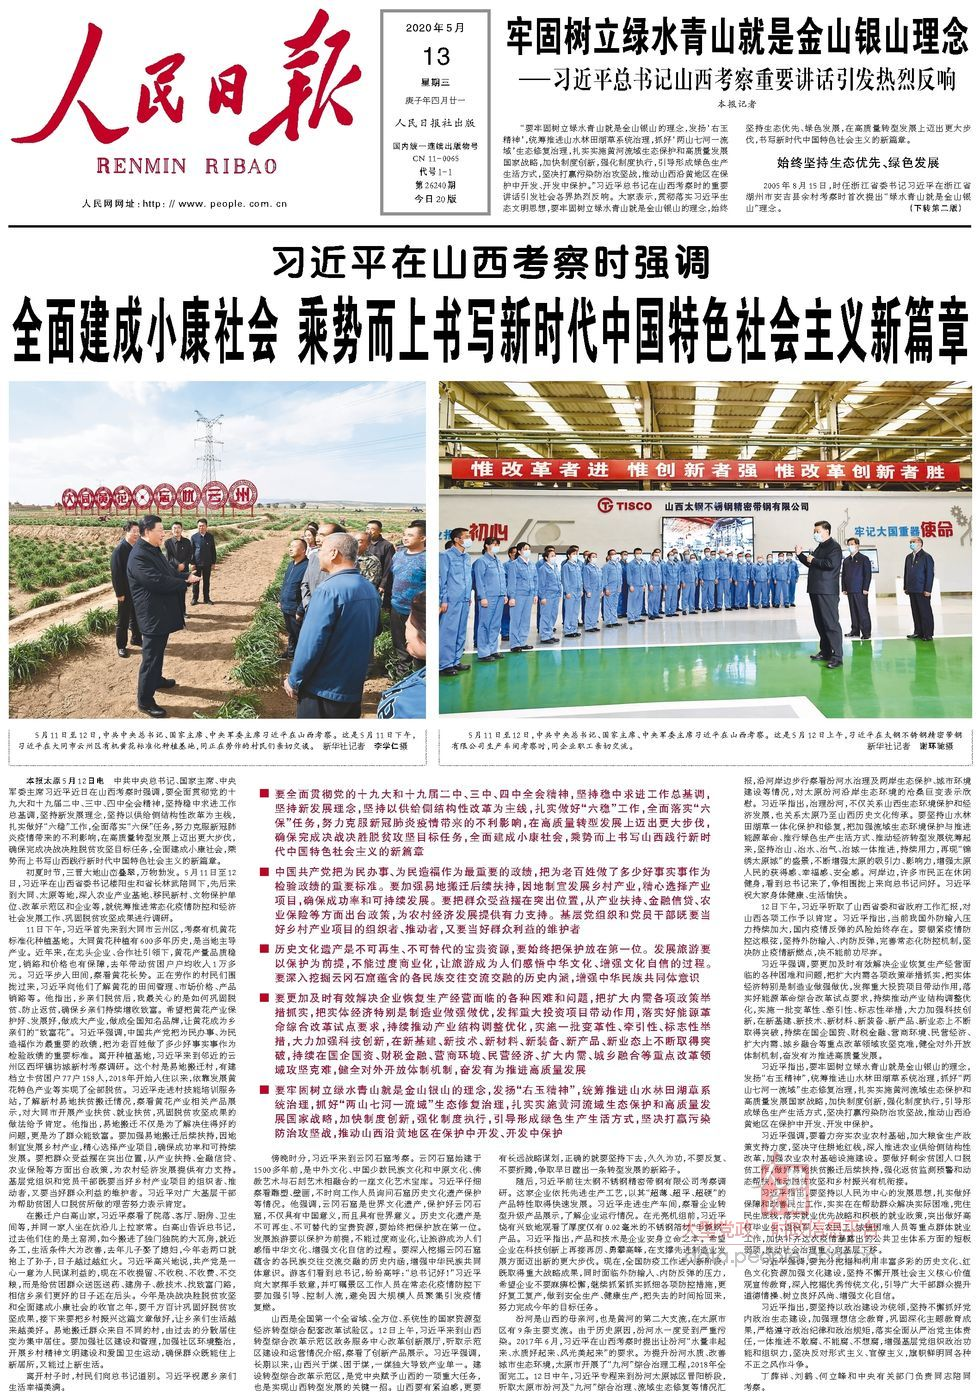pic: (433, 376, 978, 728), (3, 376, 430, 726)
